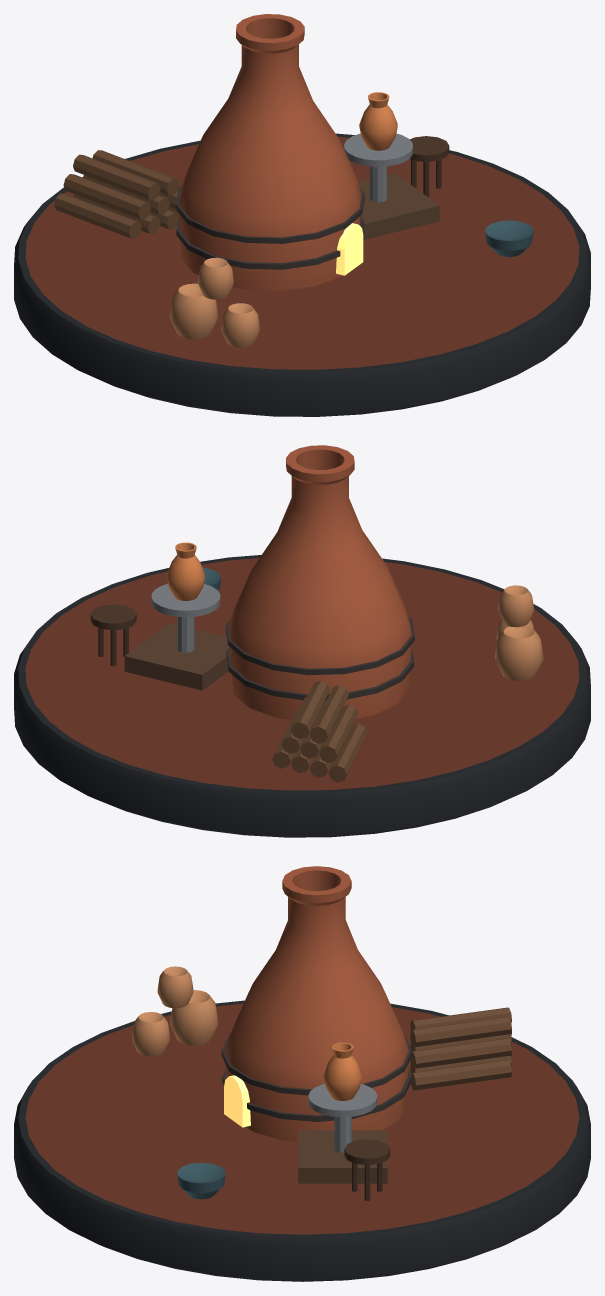
The picture shows the model from 3 angles, top to bottom: view 1: azimuth 30°, elevation 25°; view 2: azimuth 150°, elevation 25°; view 3: azimuth 270°, elevation 25°; orthographic projection.
Visible parts, largest first — view 1: PlinthTop, Kiln, Plinth, Woodpile, Pots, Platform, Bands, WheelHead, Vase, Bowl, Stool, Door; view 2: PlinthTop, Plinth, Kiln, Woodpile, Platform, Pots, Bands, WheelHead, Vase, Stool; view 3: PlinthTop, Plinth, Kiln, Woodpile, Pots, Platform, Bands, WheelHead, Vase, Stool, Bowl, Door.
Part boxes in pixels (x1=…): PlinthTop: x1=25, y1=136, x2=579, y2=369; Kiln: x1=178, y1=14, x2=361, y2=290; Plinth: x1=14, y1=133, x2=590, y2=416; Woodpile: x1=54, y1=150, x2=179, y2=238; Pots: x1=169, y1=257, x2=260, y2=347; Platform: x1=358, y1=173, x2=439, y2=239; Bands: x1=175, y1=185, x2=364, y2=269; WheelHead: x1=344, y1=133, x2=412, y2=202; Vase: x1=359, y1=92, x2=397, y2=150; Bowl: x1=485, y1=220, x2=533, y2=256; Stool: x1=409, y1=136, x2=449, y2=197; Door: x1=336, y1=223, x2=363, y2=275; PlinthTop: x1=25, y1=558, x2=579, y2=790; Plinth: x1=14, y1=555, x2=590, y2=837; Kiln: x1=228, y1=445, x2=411, y2=719; Woodpile: x1=272, y1=680, x2=367, y2=782; Platform: x1=124, y1=623, x2=229, y2=690; Pots: x1=495, y1=585, x2=543, y2=680; Bands: x1=225, y1=616, x2=414, y2=700; WheelHead: x1=151, y1=584, x2=220, y2=652; Vase: x1=166, y1=542, x2=204, y2=600; Stool: x1=90, y1=604, x2=136, y2=666; PlinthTop: x1=25, y1=1003, x2=579, y2=1234; Plinth: x1=14, y1=1000, x2=590, y2=1281; Kiln: x1=224, y1=866, x2=409, y2=1141; Woodpile: x1=410, y1=1007, x2=511, y2=1090; Pots: x1=132, y1=966, x2=218, y2=1056; Platform: x1=298, y1=1130, x2=387, y2=1183; Bands: x1=221, y1=1035, x2=411, y2=1121; WheelHead: x1=308, y1=1084, x2=377, y2=1152; Vase: x1=323, y1=1042, x2=361, y2=1100; Stool: x1=344, y1=1139, x2=390, y2=1200; Bowl: x1=177, y1=1162, x2=225, y2=1199; Door: x1=224, y1=1075, x2=250, y2=1127.
Size of the model in its own units: 4 by 2.07 by 4.
